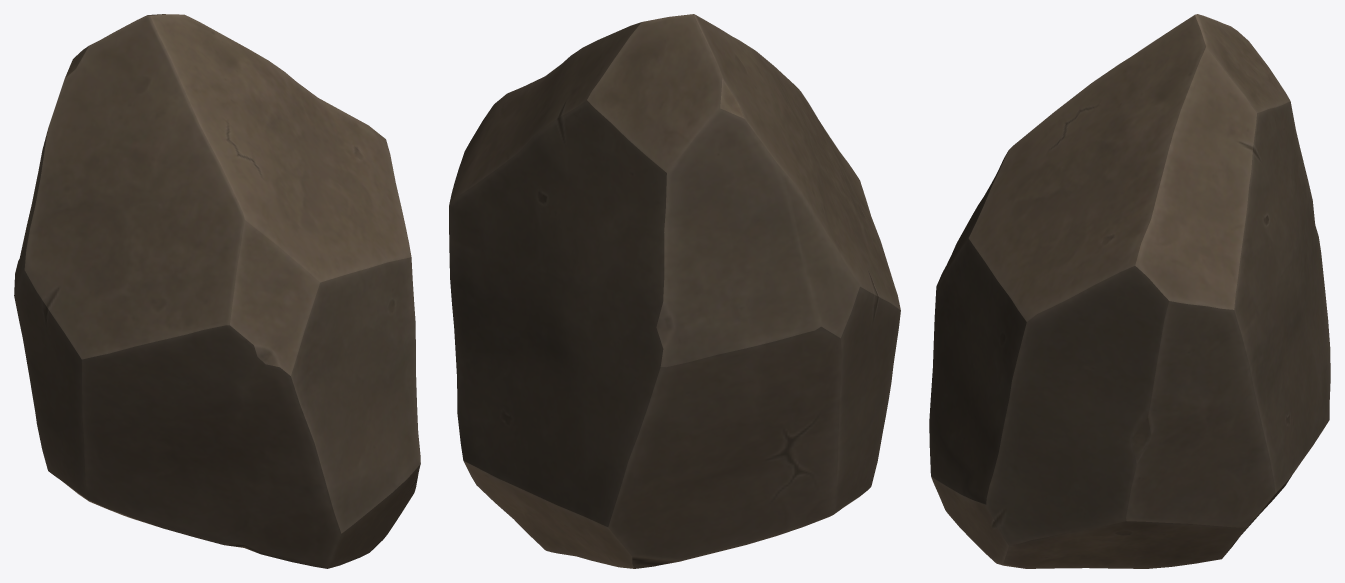
Rendered from stone1.obj.
The picture shows the model from 3 angles, left to right: view 1: azimuth 30°, elevation 25°; view 2: azimuth 150°, elevation 25°; view 3: azimuth 270°, elevation 25°; orthographic projection. The views are drawn at different scales.
Parts seen in each view (by area): view 1: ST_Stone5; view 2: ST_Stone5; view 3: ST_Stone5.
Boxes of the visible parts, x1=… form: ST_Stone5: x1=14, y1=14, x2=420, y2=568; ST_Stone5: x1=449, y1=14, x2=900, y2=568; ST_Stone5: x1=929, y1=14, x2=1330, y2=568.
Bounding box in the file's own units: 1.74 × 2.36 × 1.73.
1 material, 1 textured.
